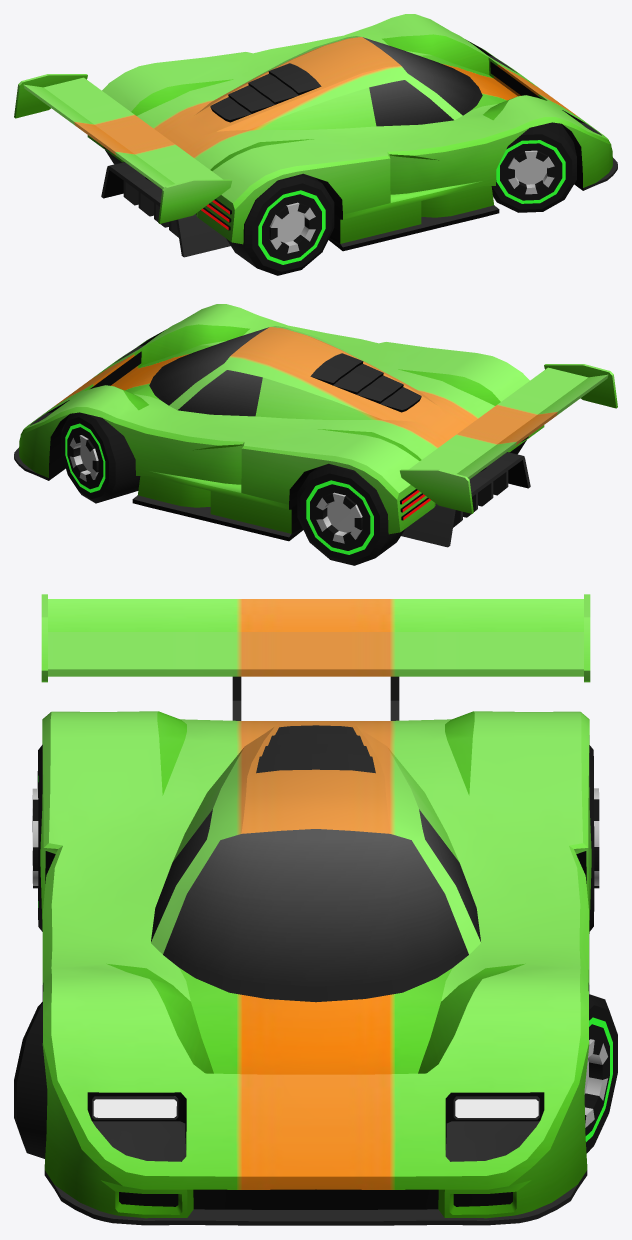
The model's file is RaceCar_077.glb.
3 views of the same model, one above another, from view 1: azimuth 30°, elevation 25°; view 2: azimuth 150°, elevation 25°; view 3: azimuth 270°, elevation 25° (orthographic). The views are drawn at different scales.
Visible parts, largest first — view 1: RaceCar_077, wheel_3_RaceCar_077_Wheel_3R, wheel_0_RaceCar_077_Wheel_1R; view 2: RaceCar_077, wheel_2_RaceCar_077_Wheel_3L, wheel_1_RaceCar_077_Wheel_2L; view 3: RaceCar_077, wheel_0_RaceCar_077_Wheel_1R, wheel_1_RaceCar_077_Wheel_2L, wheel_2_RaceCar_077_Wheel_3L, wheel_3_RaceCar_077_Wheel_3R.
Part boxes in pixels (bbox=[...]): RaceCar_077: bbox=[14, 14, 617, 257]; wheel_3_RaceCar_077_Wheel_3R: bbox=[226, 173, 334, 275]; wheel_0_RaceCar_077_Wheel_1R: bbox=[491, 122, 576, 212]; RaceCar_077: bbox=[14, 304, 617, 547]; wheel_2_RaceCar_077_Wheel_3L: bbox=[297, 463, 404, 565]; wheel_1_RaceCar_077_Wheel_2L: bbox=[61, 412, 140, 503]; RaceCar_077: bbox=[40, 594, 591, 1225]; wheel_0_RaceCar_077_Wheel_1R: bbox=[14, 1001, 47, 1158]; wheel_1_RaceCar_077_Wheel_2L: bbox=[584, 994, 617, 1153]; wheel_2_RaceCar_077_Wheel_3L: bbox=[589, 745, 599, 931]; wheel_3_RaceCar_077_Wheel_3R: bbox=[32, 745, 42, 931].
Size of the model in its own units: 3.89 by 1.04 by 2.26.
Materials: 2 (2 with a texture image).
